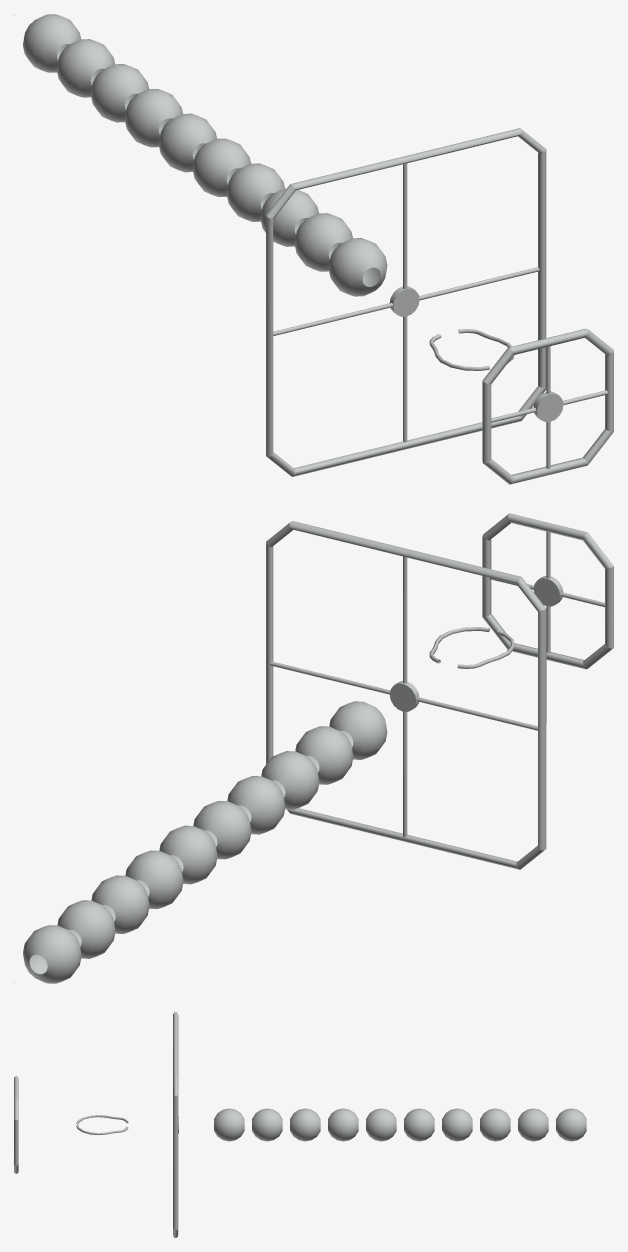
File: MeshFloorLamp_19_0_GeomSubset_1.obj
3 renders of one model, top to bottom at view 1: azimuth 30°, elevation 25°; view 2: azimuth 150°, elevation 25°; view 3: azimuth 270°, elevation 25°, orthographic. The views are drawn at different scales.
Parts seen in each view (by area): view 1: MeshFloorLamp_19_0_GeomSubset_1; view 2: MeshFloorLamp_19_0_GeomSubset_1; view 3: MeshFloorLamp_19_0_GeomSubset_1.
Part boxes in pixels (box(x1,y1,x2,y2)): MeshFloorLamp_19_0_GeomSubset_1: box(14, 14, 613, 484); MeshFloorLamp_19_0_GeomSubset_1: box(14, 513, 613, 983); MeshFloorLamp_19_0_GeomSubset_1: box(14, 1012, 586, 1237).
Bounding box in the file's own units: 0.5272 × 0.5272 × 1.75.
